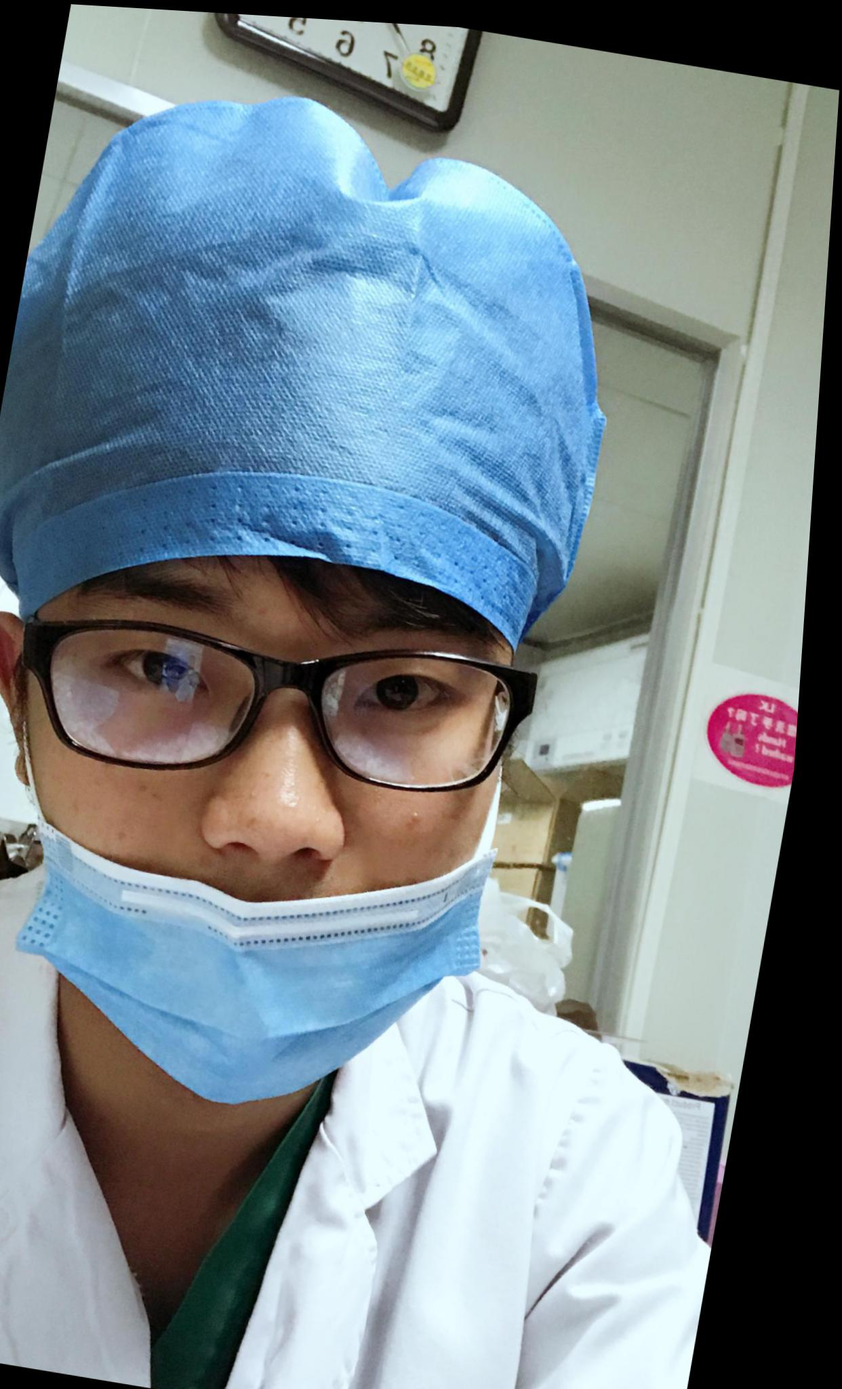WRONG: (1, 458, 625, 1139)
